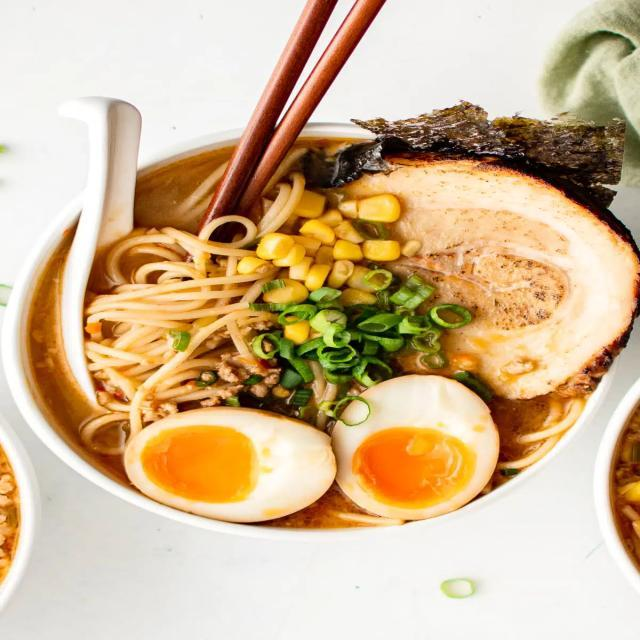cac loai rau cu: (268, 202, 460, 414), (326, 113, 635, 205)
mi misoramen: (24, 108, 640, 536)
soi mi miso: (91, 224, 261, 419)
thit heo: (306, 155, 640, 389)
trung: (112, 405, 336, 528), (333, 375, 502, 525)
